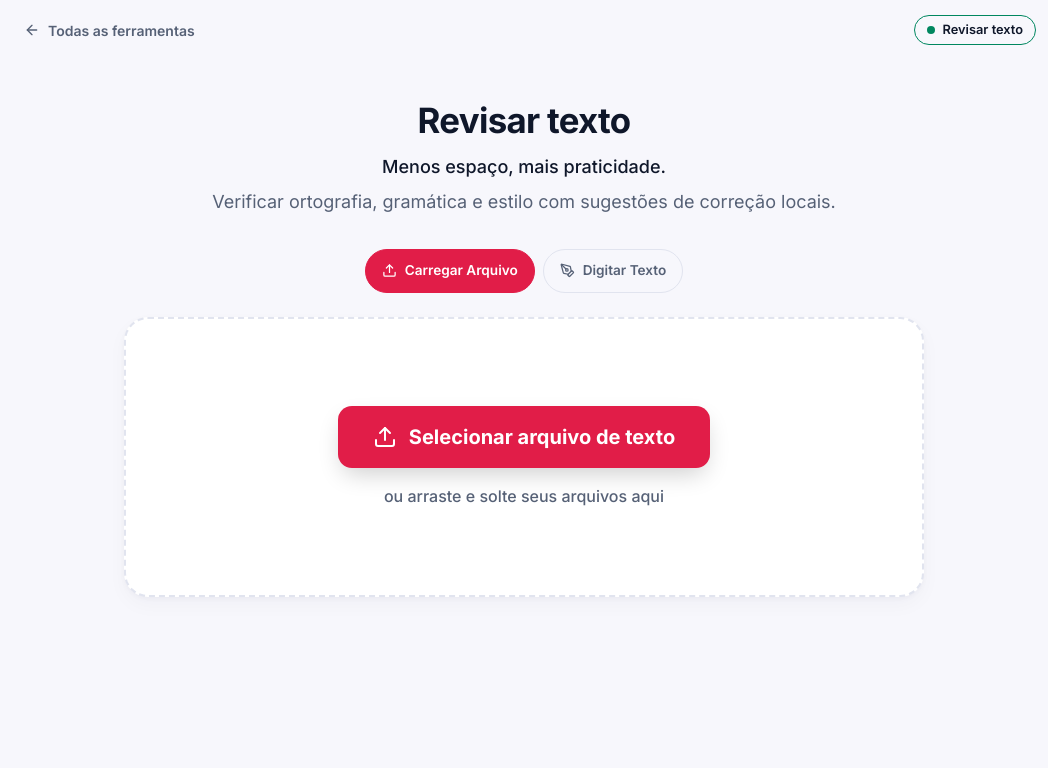
Test: DedicatedToolView - Espaço 2 Colunas e Ferramentas Interativas › ignora revisão obsoleta: sucesso
This screenshot has width=1048, height=768.
Click the button "Digitar Texto" at (613,271), box [543, 249, 683, 293]
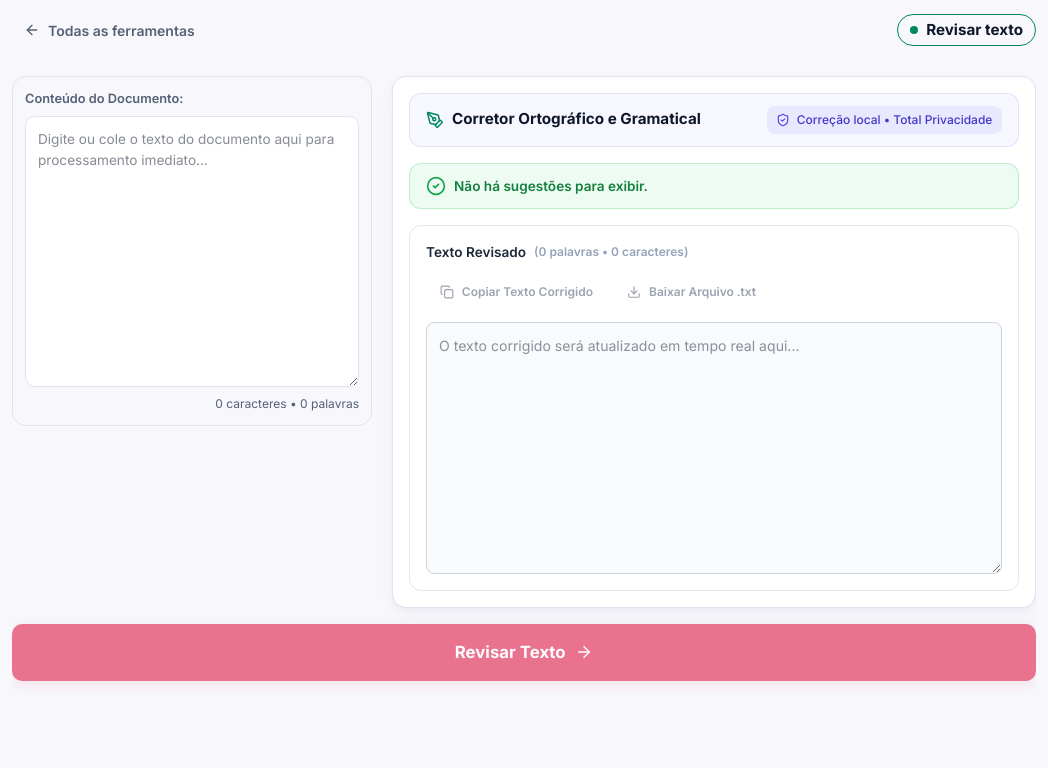
Replace the text in the text box labelled "Conteúdo do Documento:" with "Texto original para revisar." at (192,252), box [25, 116, 359, 387]
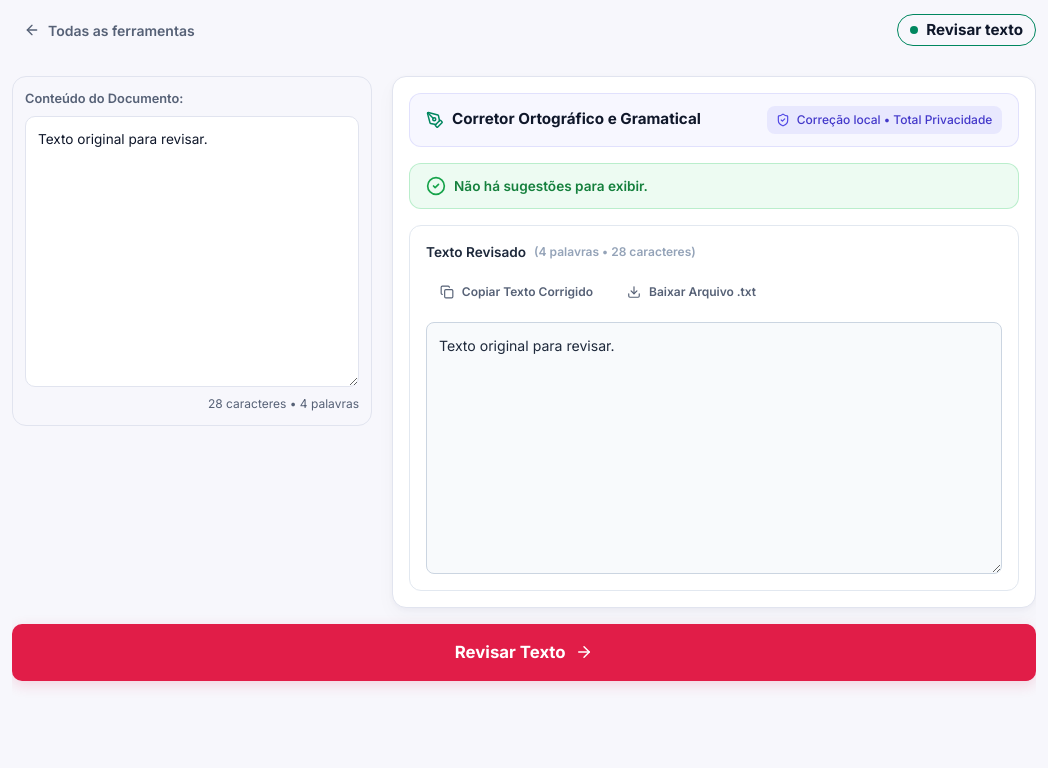
Click the button "Revisar Texto" at (524,652), box [12, 624, 1036, 681]
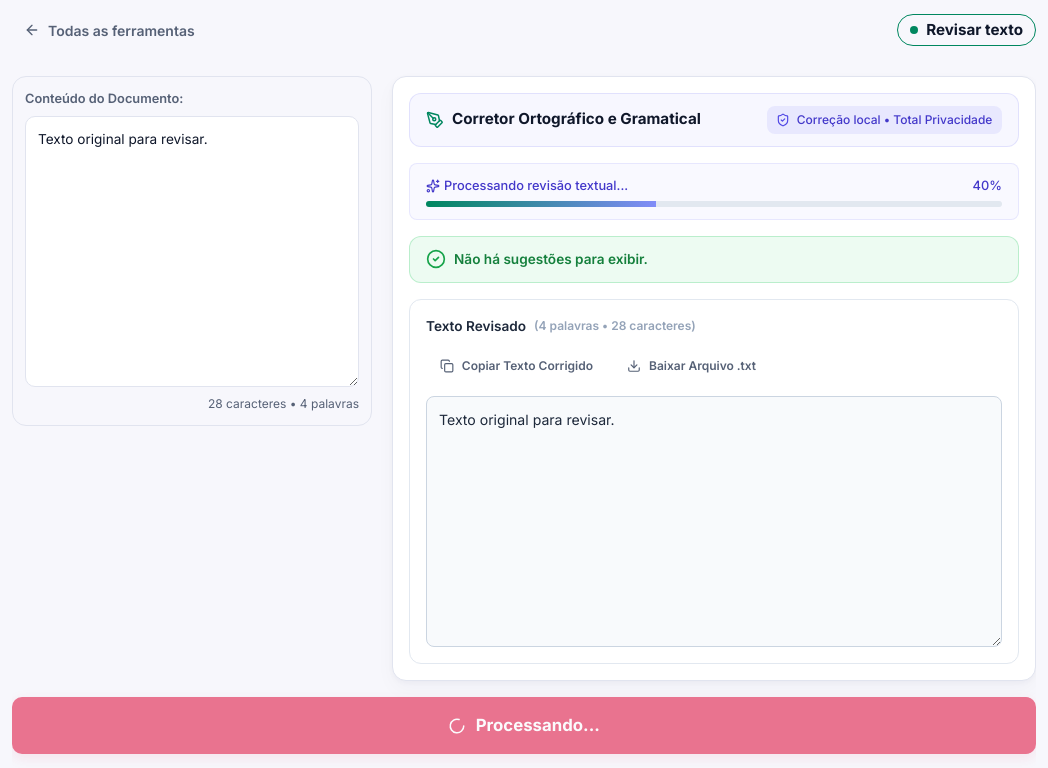
Replace the text in the text box labelled "Conteúdo do Documento:" with "Texto atual preservado." at (192,252), box [25, 116, 359, 387]
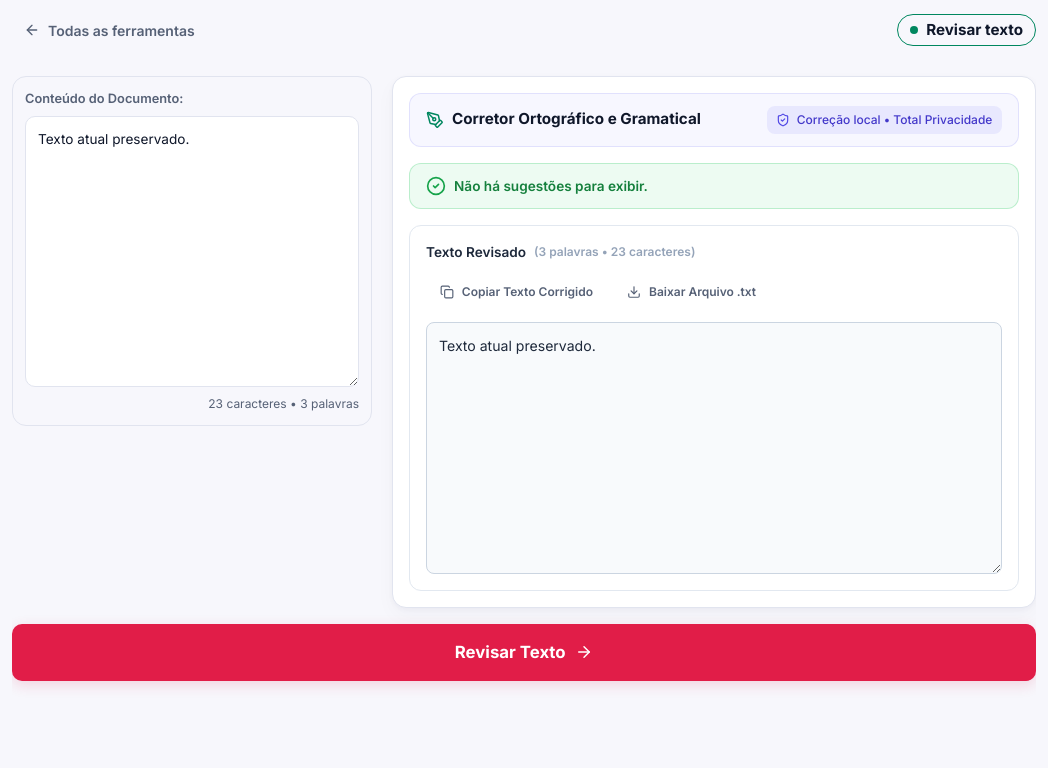
Expected: the text box with placeholder "O texto corrigido será atualizado em tempo real aqui..." holds "Texto atual preservado.", [426, 322, 1002, 574]
